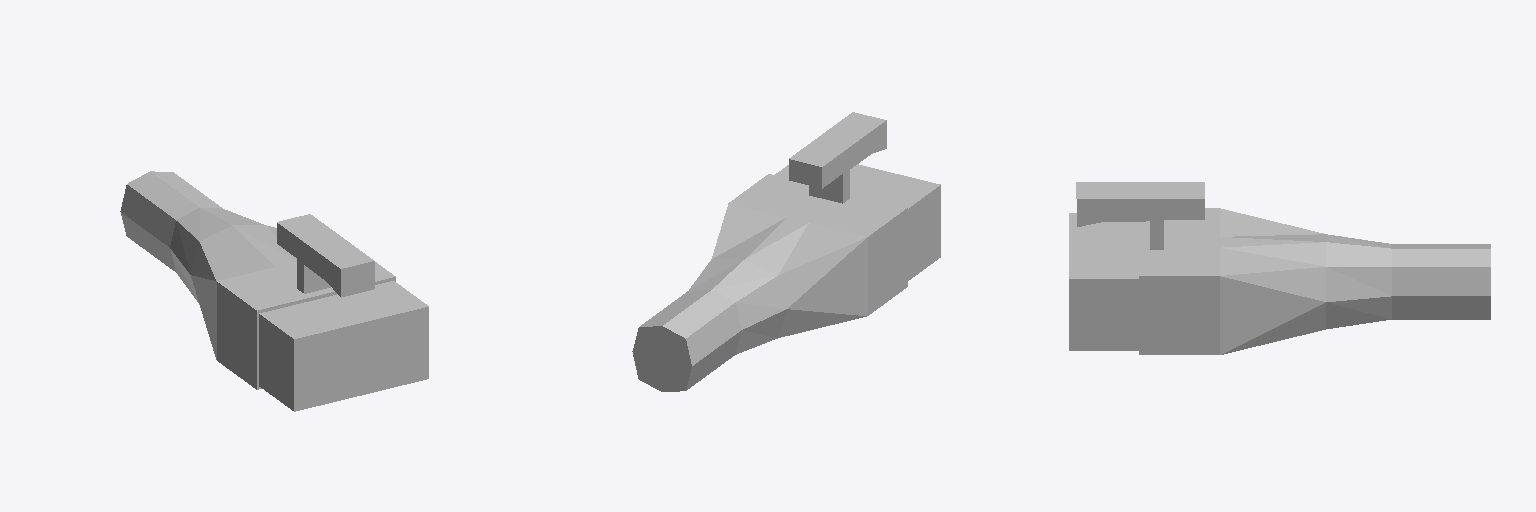
Rendered from 8Pin.obj.
3 views of the same model, side by side, from view 1: azimuth 30°, elevation 25°; view 2: azimuth 150°, elevation 25°; view 3: azimuth 270°, elevation 25° (orthographic).
Parts seen in each view (by area): view 1: Cube.003; view 2: Cube.003; view 3: Cube.003.
Part boxes in pixels (left/top/right/bottom): Cube.003: left=120, top=171, right=428, bottom=411; Cube.003: left=632, top=112, right=940, bottom=391; Cube.003: left=1069, top=182, right=1490, bottom=354.
Bounding box in the file's own units: 0.1578 × 0.1419 × 0.4153.